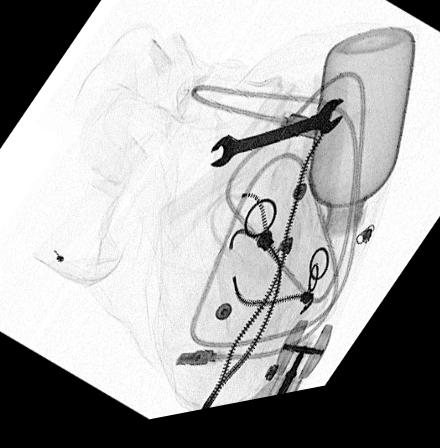Wrench: (208, 110, 344, 178)
